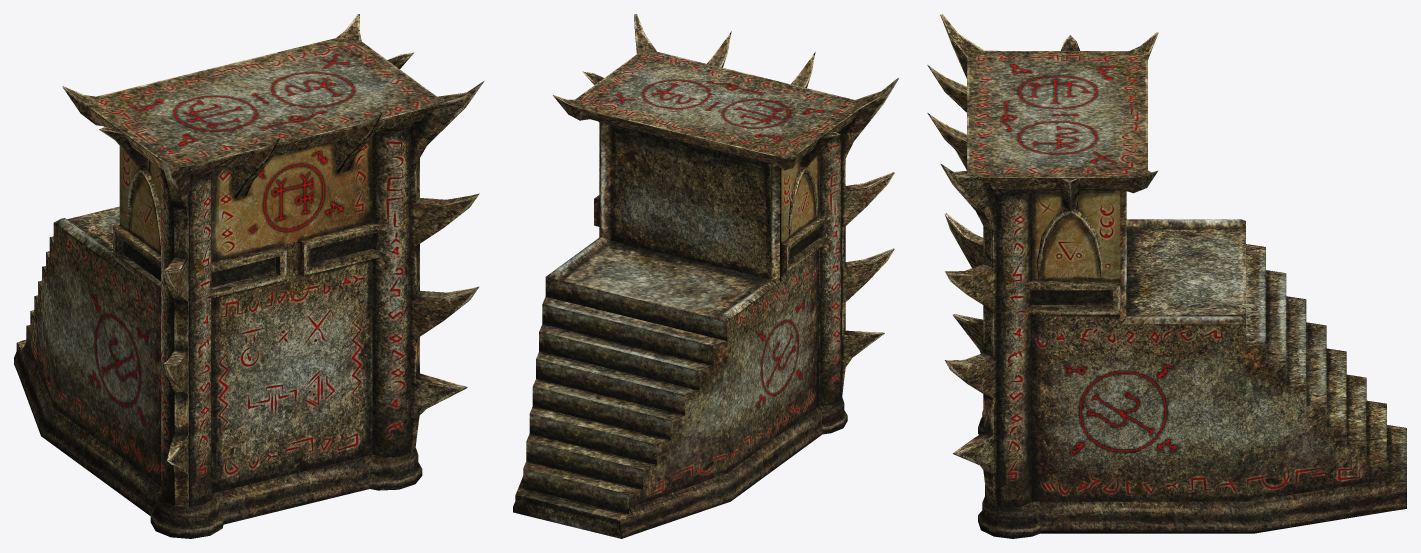
The model's file is stone_altar_extra_large.dae.
3 renders of one model, left to right at view 1: azimuth 30°, elevation 25°; view 2: azimuth 150°, elevation 25°; view 3: azimuth 270°, elevation 25°, orthographic. The views are drawn at different scales.
Visible parts, largest first — view 1: base; view 2: base; view 3: base.
Part boxes in pixels (x1,y1,x2,y2): base: (14,14,484,538); base: (513,14,898,538); base: (927,14,1406,538).
Size of the model in its own units: 2.16 by 2.91 by 2.61.
